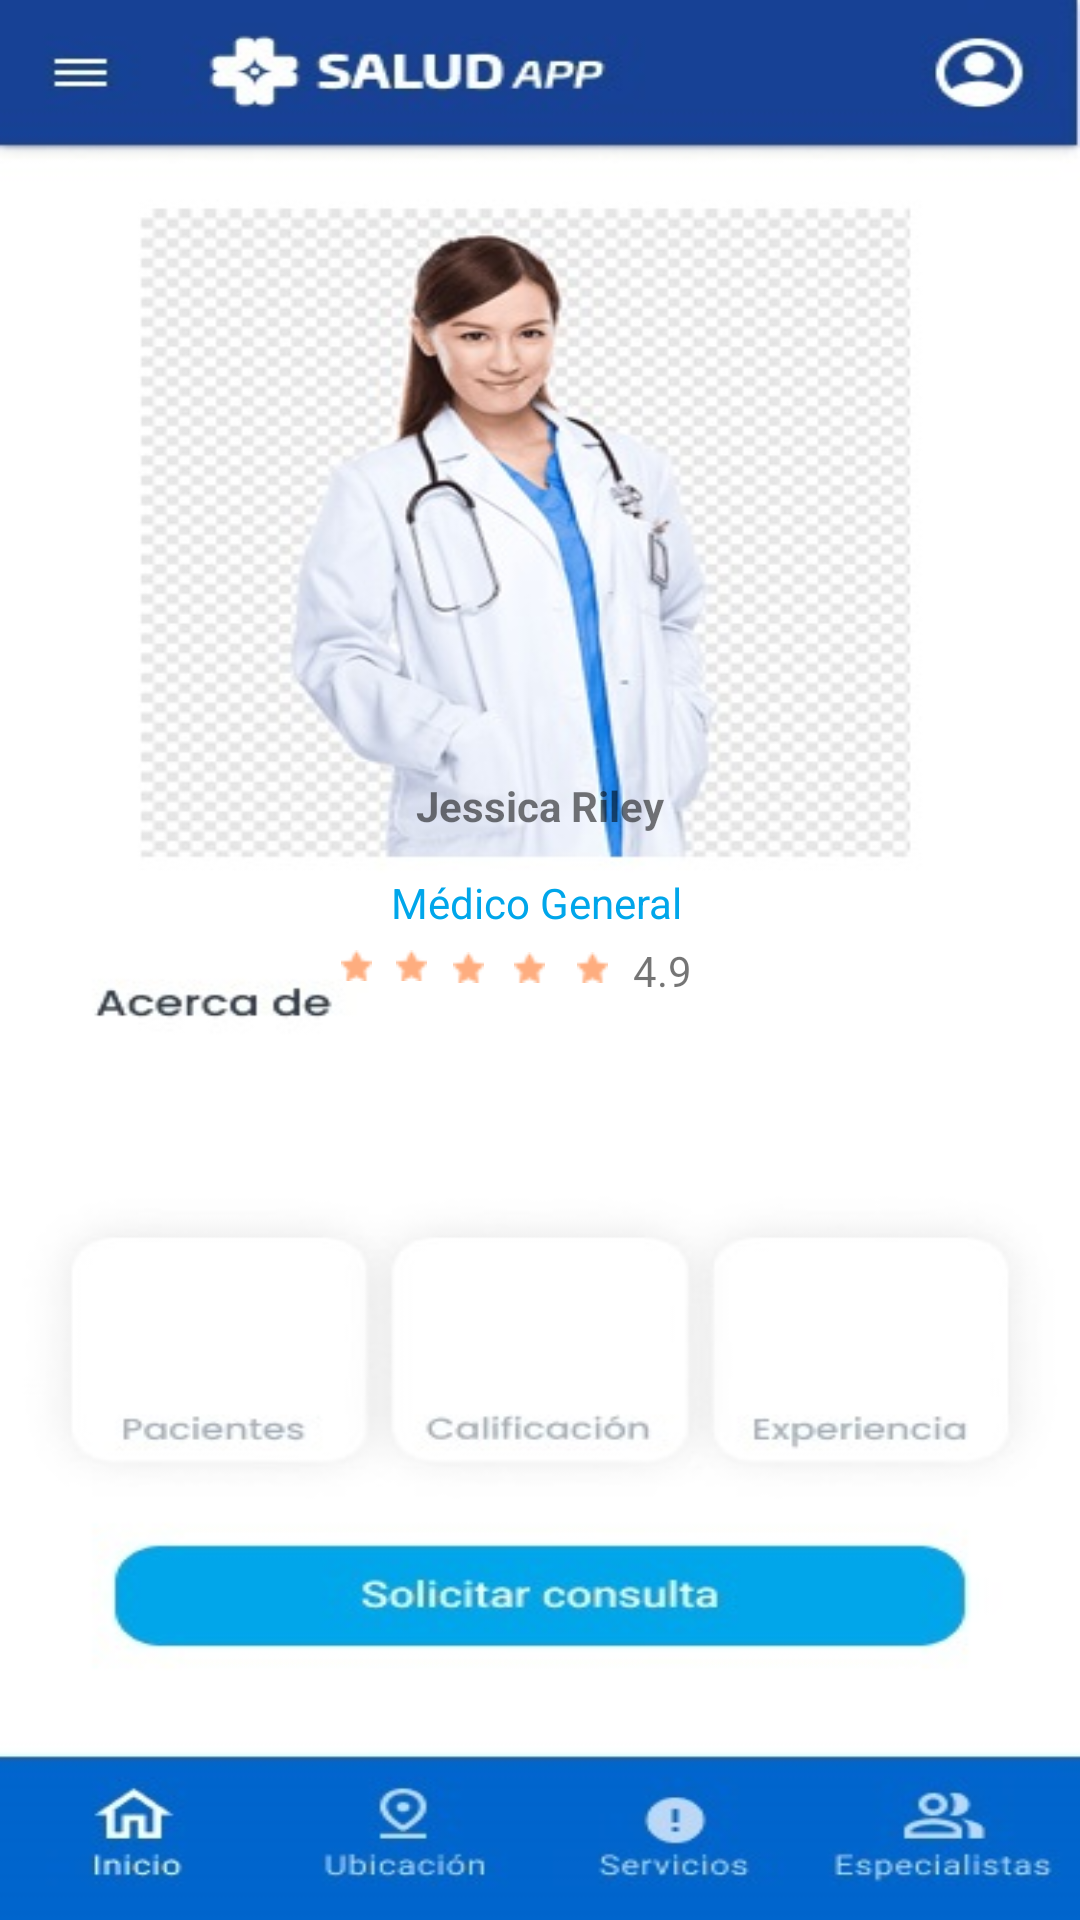

Locate icon controls on the screen. Image size 1080 x 1920, boxes as bbox=[x1, y1, x2, y2].
estrella: bbox=[341, 950, 372, 981], bbox=[396, 950, 427, 981], bbox=[453, 952, 484, 983], bbox=[514, 952, 545, 983], bbox=[577, 952, 608, 983]
